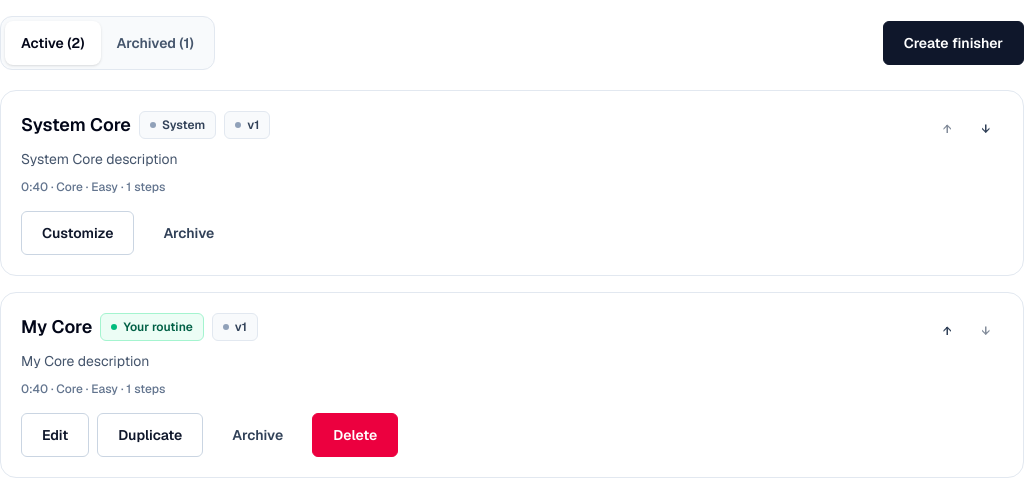
Scenario: FinisherLibraryClient › separates Active and Archived views and protects system routines
expect the text "System Core" is shown: met, box [162, 117, 205, 133]
expect the button "Customize" is shown: met, box [21, 211, 134, 255]
Click the tab "Archived (1)": {"x": 155, "y": 43} [101, 21, 210, 65]
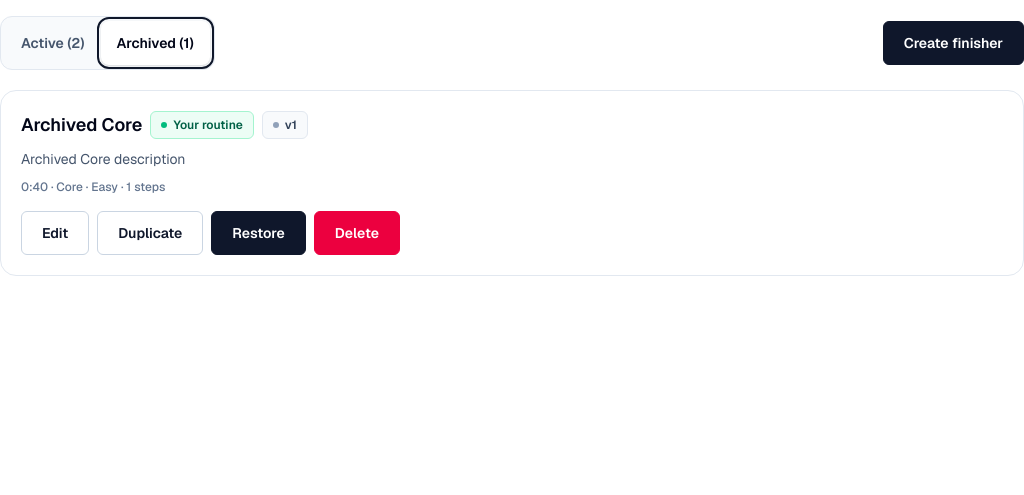
expect the button "Delete" is shown: met, box [314, 211, 400, 255]
expect the heading "Archived Core" is shown: met, box [21, 111, 142, 139]
expect the button "Restore" is shown: met, box [211, 211, 306, 255]
